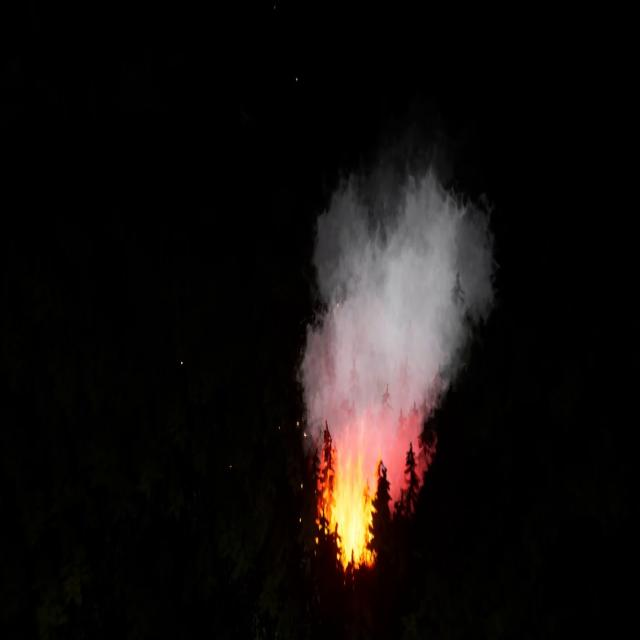fire: (312, 430, 430, 578)
smoke: (296, 157, 494, 469)
